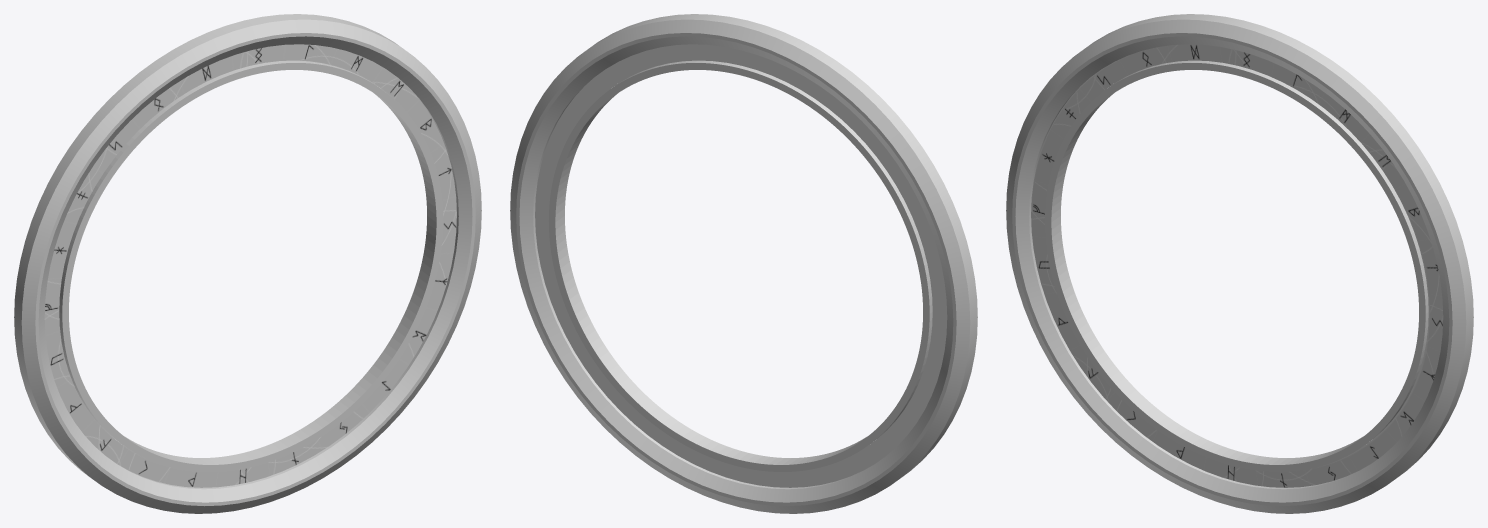
Rendered from stargate4-ring.dae.
3 views of the same model, side by side, from view 1: azimuth 30°, elevation 25°; view 2: azimuth 150°, elevation 25°; view 3: azimuth 330°, elevation 25° (orthographic).
Parts seen in each view (by area): view 1: Main ring, Inner ring, Cylinder; view 2: Main ring, Inner ring, Cylinder; view 3: Main ring, Inner ring, Cylinder.
Boxes of the visible parts, left/top/right/bottom form: Main ring: left=14, top=14, right=481, bottom=513; Inner ring: left=44, top=44, right=456, bottom=487; Cylinder: left=59, top=60, right=443, bottom=471; Main ring: left=510, top=14, right=977, bottom=513; Inner ring: left=535, top=44, right=947, bottom=487; Cylinder: left=548, top=60, right=932, bottom=471; Main ring: left=1006, top=14, right=1473, bottom=513; Inner ring: left=1031, top=44, right=1443, bottom=487; Cylinder: left=1044, top=60, right=1428, bottom=471.
Size of the model in its own units: 7 by 0.4 by 7.
1 material, 1 textured.
